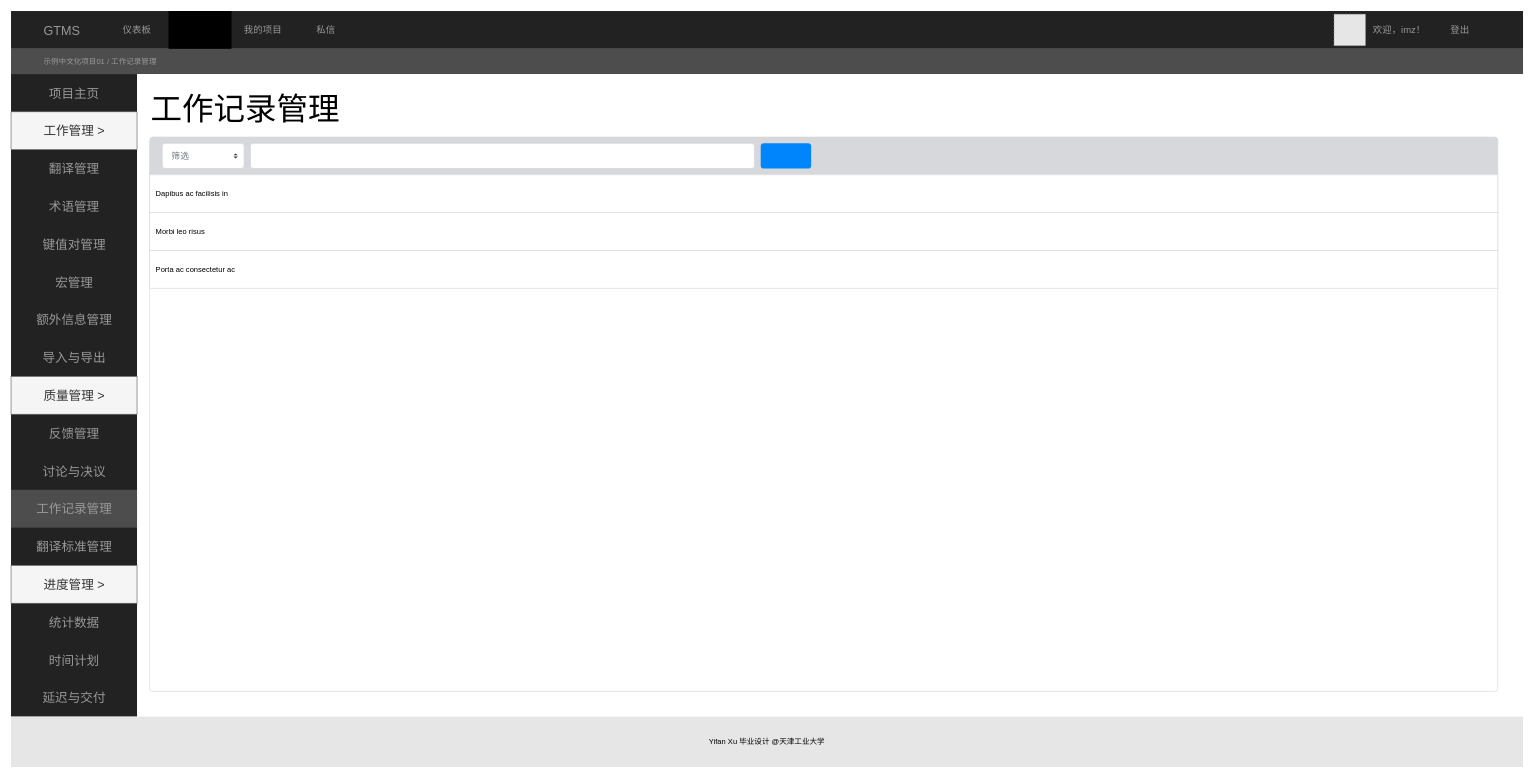
This 1534x777 diagram has some shape labels left out. Grey dashed boxes stand in for pictures. The shapes that lost their labels are listed below. From the top down, each one's centre as x and y in pixels, then its label:
point 199,30: 项目浏览
point 502,156: 搜索工作记录
point 785,155: 搜索
